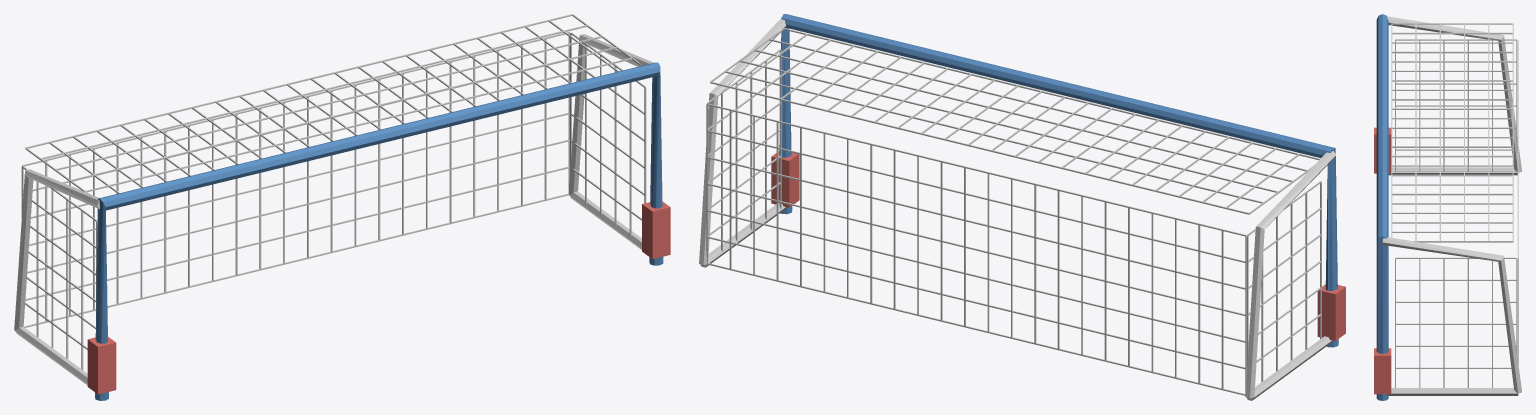
Rendered from community-sports-hall-and-changing-rooms-five-a-side-g-32bd7f98.glb.
3 renders of one model, left to right at view 1: azimuth 30°, elevation 25°; view 2: azimuth 150°, elevation 25°; view 3: azimuth 270°, elevation 25°, orthographic. The views are drawn at different scales.
Parts seen in each view (by area): view 1: five-a-side-goal; view 2: five-a-side-goal; view 3: five-a-side-goal.
Part boxes in pixels (x1,y1,x2,y2): five-a-side-goal: (14, 14, 670, 400); five-a-side-goal: (699, 14, 1345, 400); five-a-side-goal: (1374, 14, 1521, 400).
Bounding box in the file's own units: 3.78 × 1.26 × 1.04.
